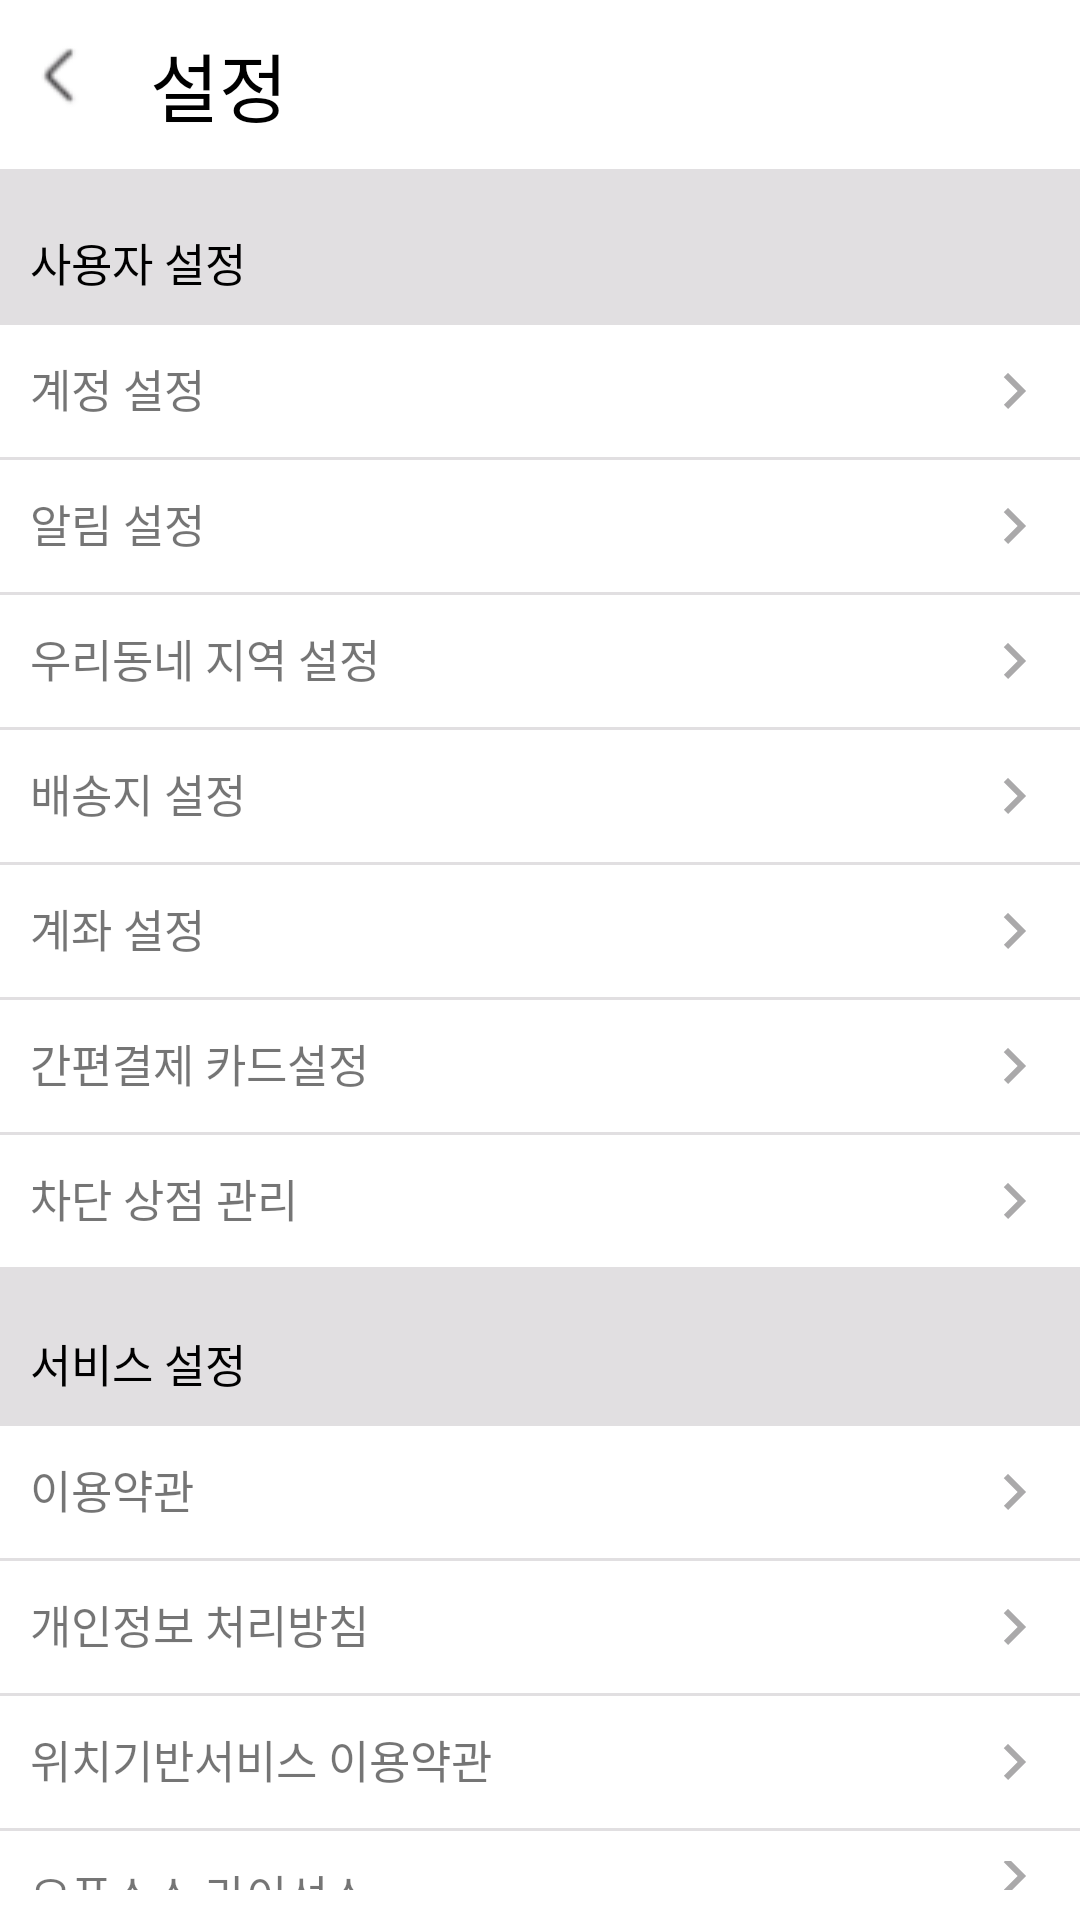

Where to tap for icons on this 1080w x 1920h app screen, as (x=x, y=y):
back arrow: (x=58, y=75)
